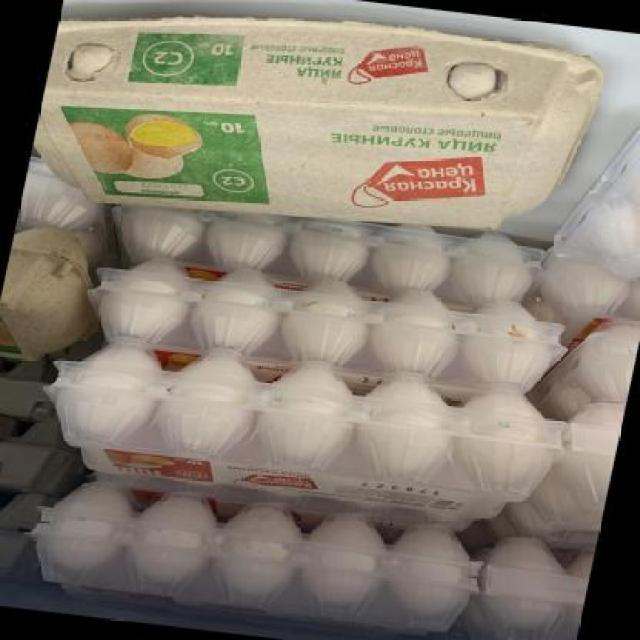Egg: (23, 0, 615, 257), (37, 335, 575, 527), (0, 219, 114, 371), (551, 112, 640, 283), (0, 481, 60, 593), (0, 411, 75, 496), (0, 352, 58, 419)
